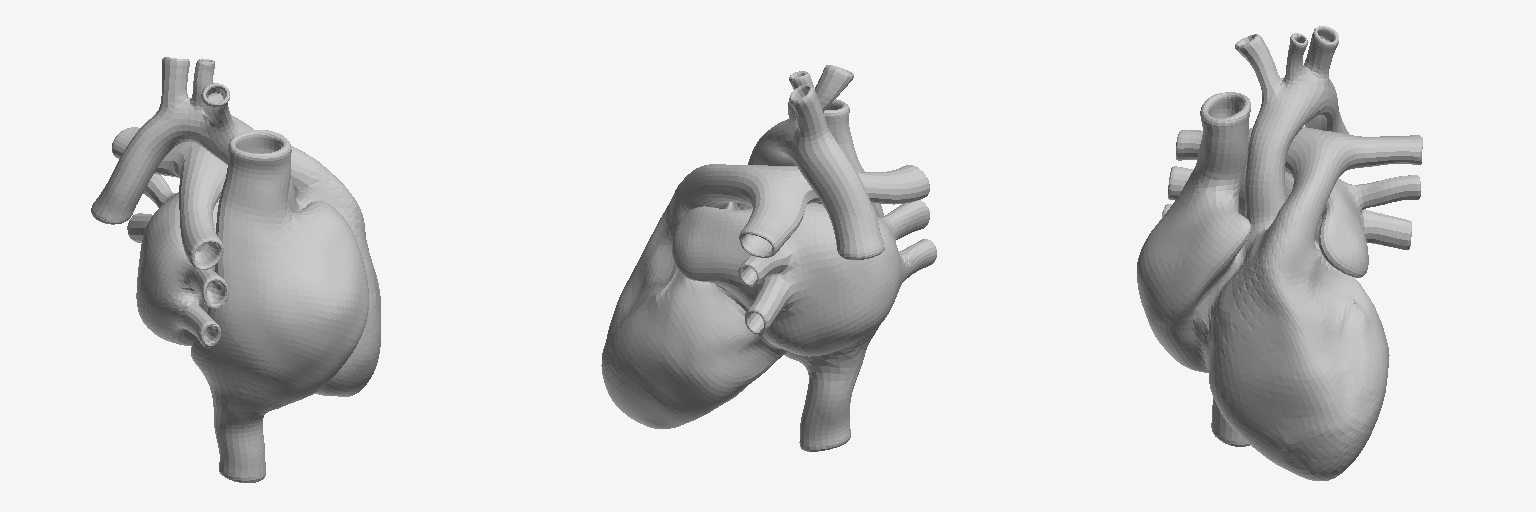
3 views of the same model, side by side, from view 1: azimuth 30°, elevation 25°; view 2: azimuth 150°, elevation 25°; view 3: azimuth 270°, elevation 25° (orthographic).
Parts seen in each view (by area): view 1: HEART_PRO; view 2: HEART_PRO; view 3: HEART_PRO.
Boxes of the visible parts, x1=… form: HEART_PRO: x1=91, y1=57, x2=380, y2=482; HEART_PRO: x1=601, y1=65, x2=936, y2=451; HEART_PRO: x1=1137, y1=26, x2=1422, y2=480.
Size of the model in its own units: 600 by 834 by 542.